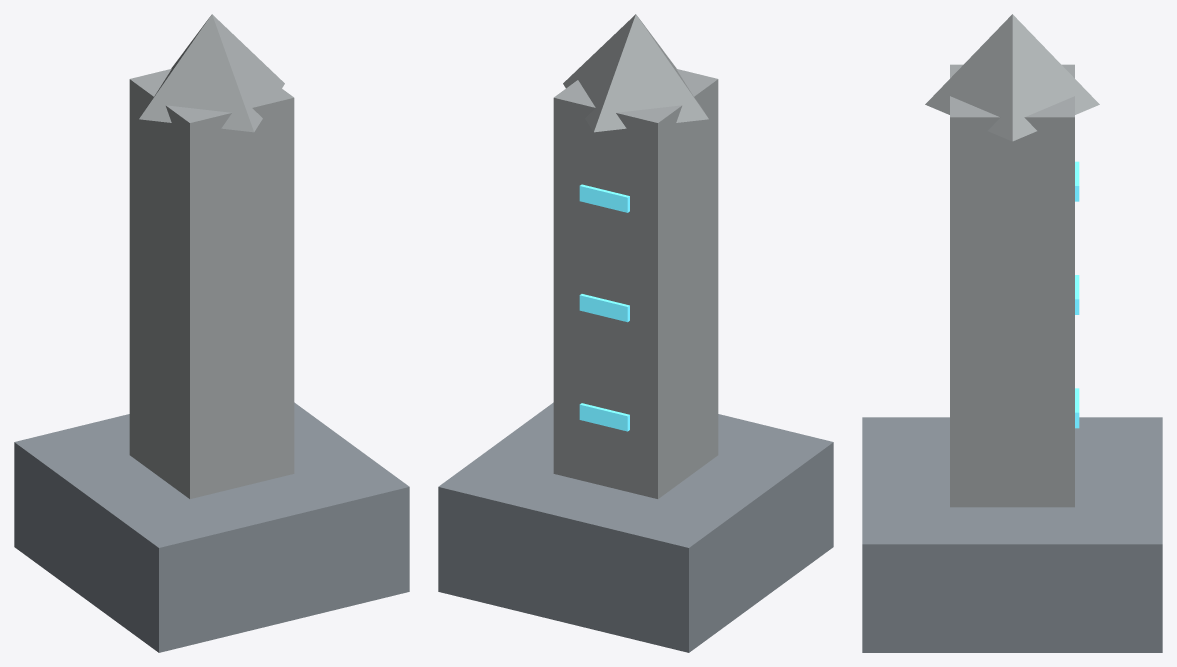
Rendered from ruin_runestone.glb.
3 renders of one model, left to right at view 1: azimuth 30°, elevation 25°; view 2: azimuth 150°, elevation 25°; view 3: azimuth 270°, elevation 25°, orthographic. The views are drawn at different scales.
Parts seen in each view (by area): view 1: ruin_runestone_Mesh; view 2: ruin_runestone_Mesh; view 3: ruin_runestone_Mesh.
Part boxes in pixels (box(x1,y1,x2,y2)): ruin_runestone_Mesh: box(14, 14, 409, 652); ruin_runestone_Mesh: box(438, 14, 833, 652); ruin_runestone_Mesh: box(862, 14, 1162, 652).
Bounding box in the file's own units: 1.2 × 2.54 × 1.2.
